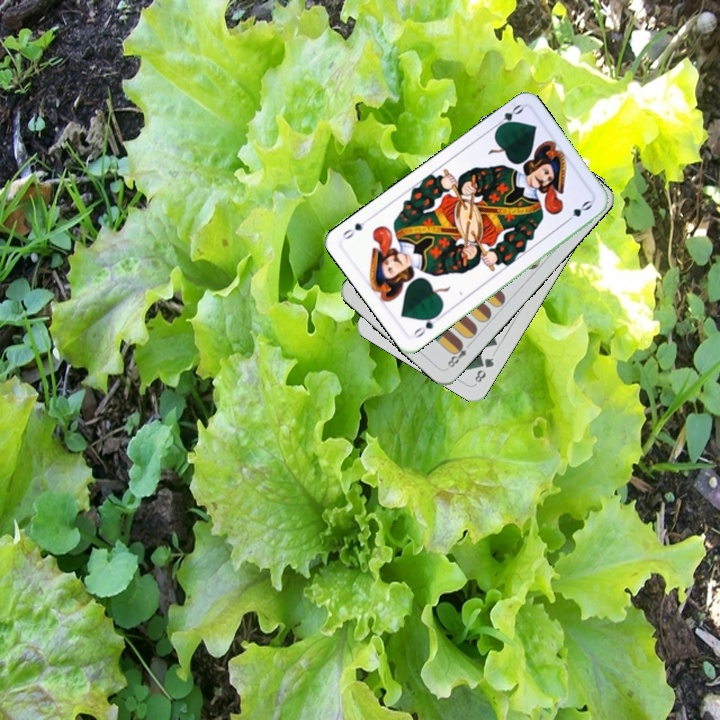E8: (443, 338, 474, 370)
G8: (470, 353, 497, 385)
GO: (489, 100, 526, 133), (409, 309, 445, 341)
